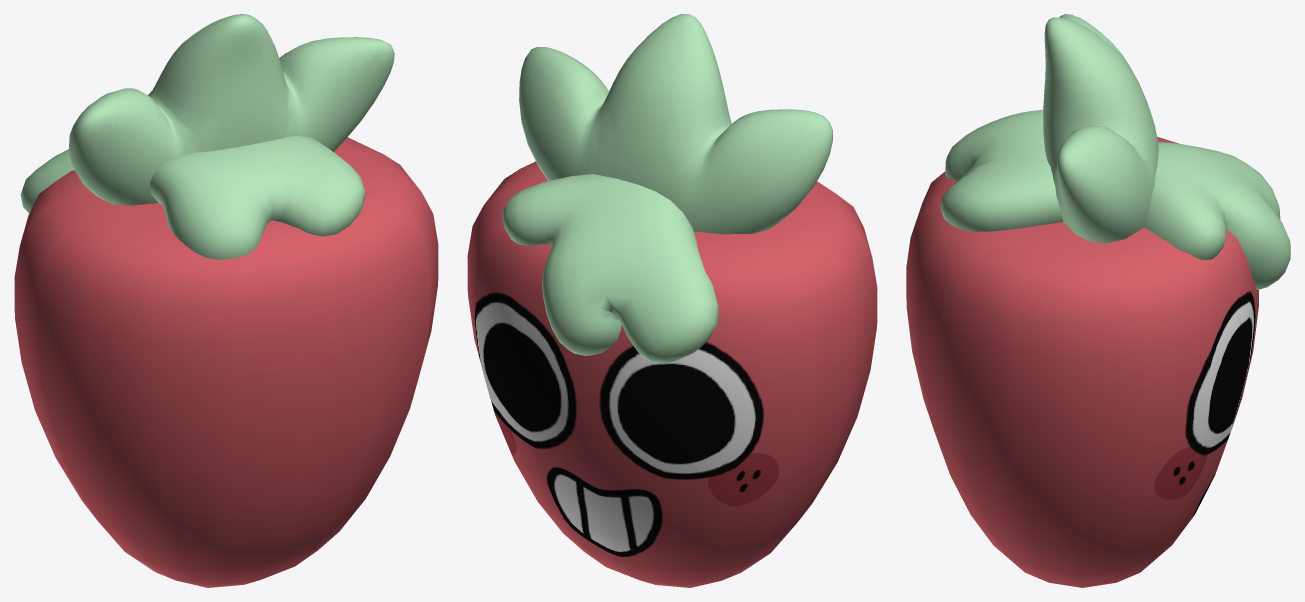
File: Sprout.glb
3 renders of one model, left to right at view 1: azimuth 30°, elevation 25°; view 2: azimuth 150°, elevation 25°; view 3: azimuth 270°, elevation 25°, orthographic. The views are drawn at different scales.
Parts seen in each view (by area): view 1: Sprout Head; view 2: Sprout Head; view 3: Sprout Head.
Boxes of the visible parts, x1=… form: Sprout Head: x1=14, y1=14, x2=438, y2=587; Sprout Head: x1=467, y1=14, x2=877, y2=587; Sprout Head: x1=906, y1=14, x2=1290, y2=587.
Bounding box in the file's own units: 2.55 × 3.69 × 2.31.
Materials: 1 (1 with a texture image).
